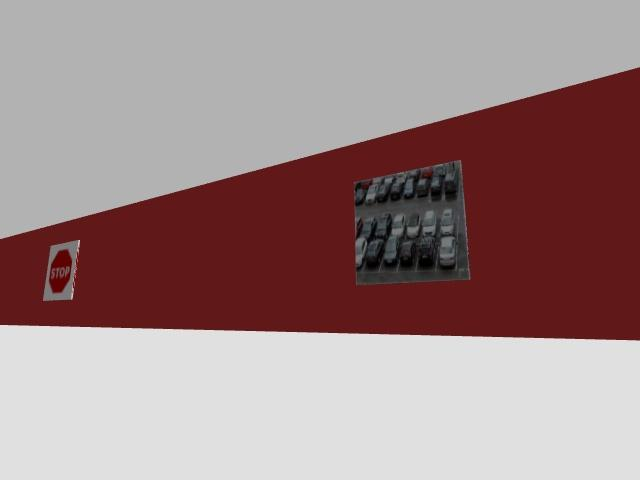stopsign: (43, 240, 79, 300)
vehicle: (438, 236, 457, 267), (417, 234, 435, 264), (383, 236, 400, 264), (365, 239, 383, 265), (375, 212, 391, 238), (360, 216, 376, 240), (422, 210, 436, 237), (440, 209, 454, 236), (406, 212, 420, 238), (400, 240, 415, 264), (355, 238, 367, 267), (391, 213, 405, 237), (444, 170, 457, 193), (365, 184, 378, 204), (390, 182, 404, 200), (376, 183, 390, 201), (430, 175, 441, 196), (403, 178, 414, 198), (416, 178, 428, 196), (355, 216, 363, 238), (355, 188, 365, 204), (407, 169, 420, 181), (434, 164, 446, 177), (395, 172, 406, 183), (360, 179, 371, 190), (421, 167, 432, 178), (383, 175, 393, 184), (354, 181, 361, 191), (372, 177, 381, 184)
